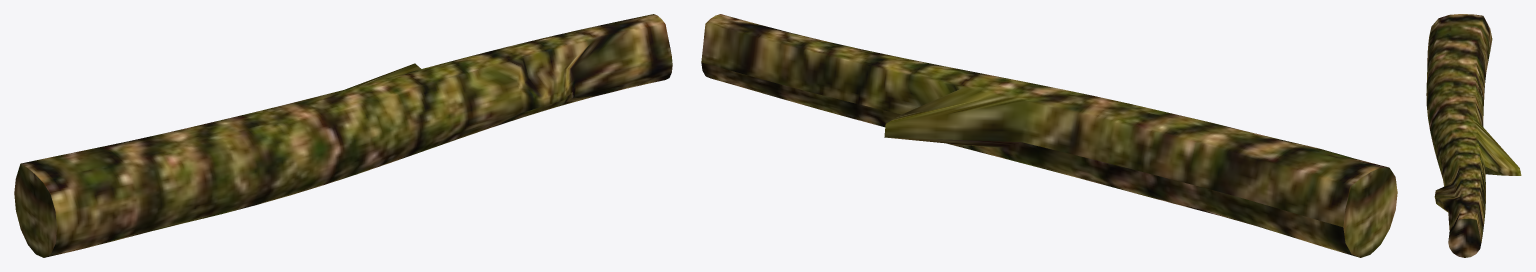
File: tronco.fbx
The picture shows the model from 3 angles, left to right: view 1: azimuth 30°, elevation 25°; view 2: azimuth 150°, elevation 25°; view 3: azimuth 270°, elevation 25°; orthographic projection. The views are drawn at different scales.
Visible parts, largest first — view 1: tronco; view 2: tronco; view 3: tronco.
Boxes of the visible parts, <box> form: tronco: <box>14,14,672,257</box>; tronco: <box>701,14,1397,257</box>; tronco: <box>1426,14,1521,257</box>.
Bounding box in the file's own units: 151 × 29.4 × 18.12.
1 material, 1 textured.
